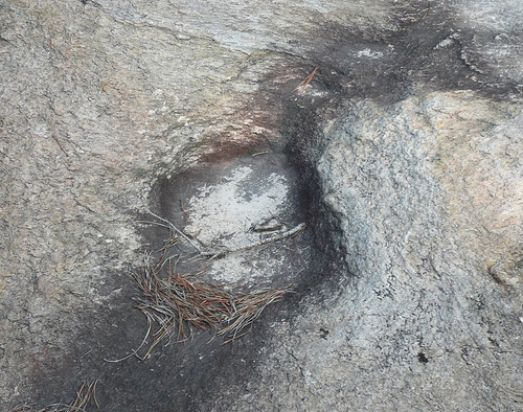pothole: (105, 124, 349, 407)
